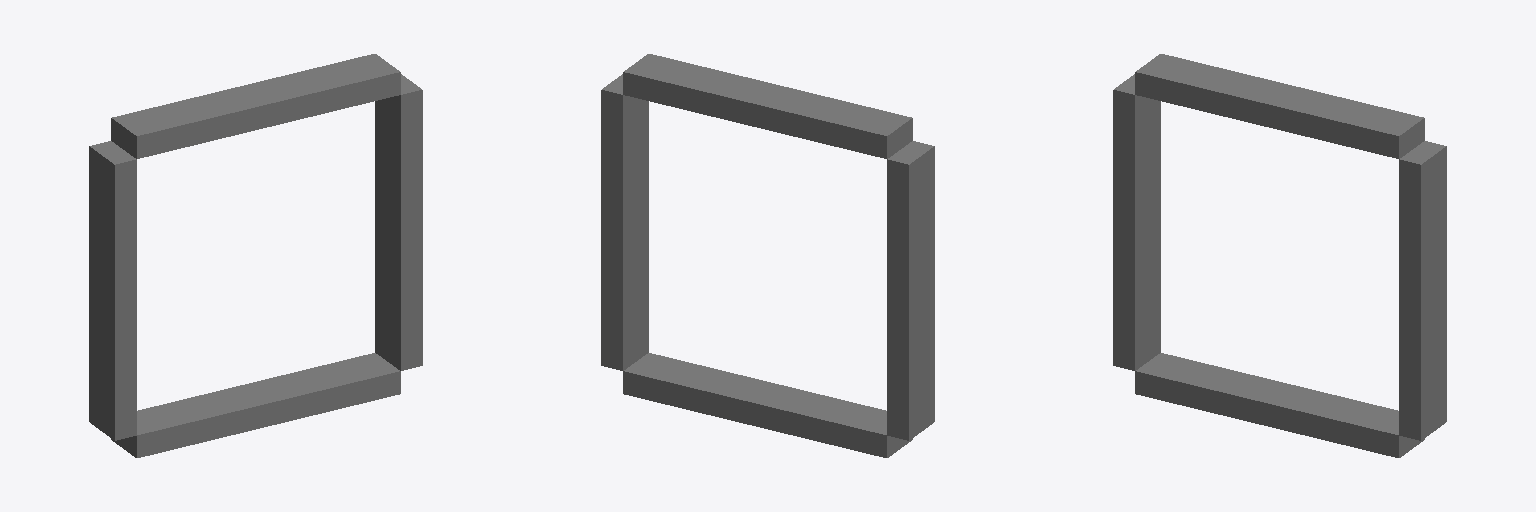
The picture shows the model from 3 angles: view 1: azimuth 30°, elevation 25°; view 2: azimuth 150°, elevation 25°; view 3: azimuth 330°, elevation 25°; orthographic projection.
Size of the model in its own units: 14 by 14 by 2.
1 materials, 1 textured.